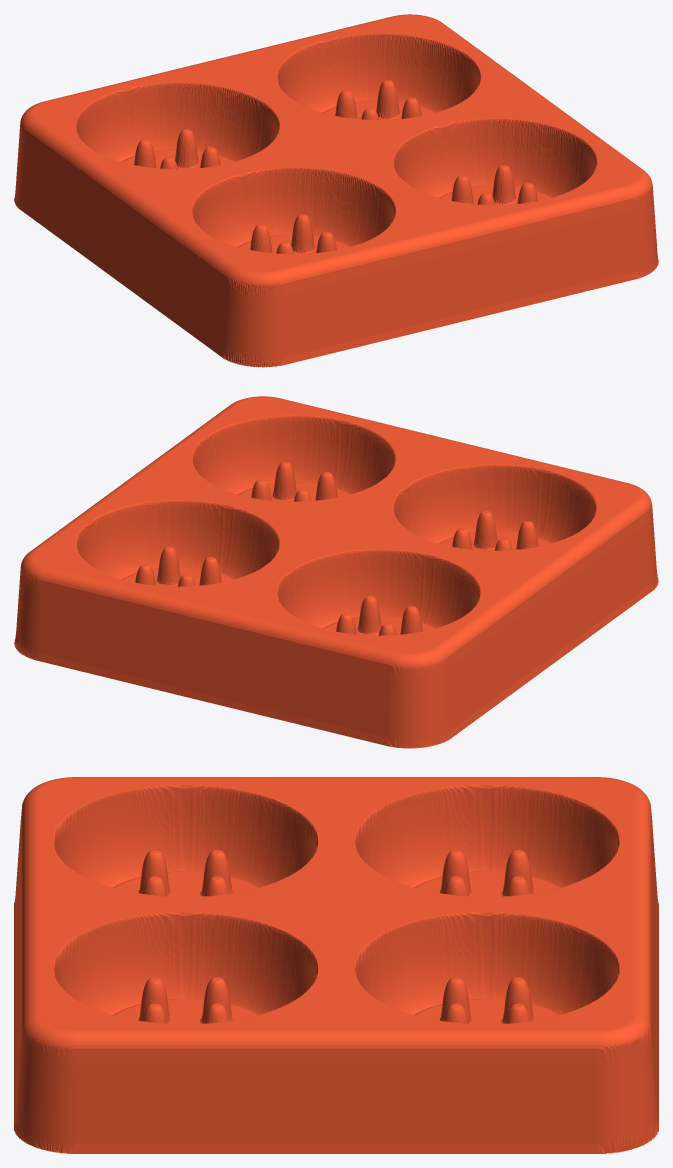
Rendered from mold.glb.
3 views of the same model, one above another, from view 1: azimuth 30°, elevation 25°; view 2: azimuth 150°, elevation 25°; view 3: azimuth 270°, elevation 25° (orthographic). The views are drawn at different scales.
Visible parts, largest first — view 1: geometry_0; view 2: geometry_0; view 3: geometry_0.
Part boxes in pixels (box(x1,y1,x2,y2)): geometry_0: box(14, 14, 658, 367); geometry_0: box(14, 396, 658, 748); geometry_0: box(14, 777, 658, 1153).
Bounding box in the file's own units: 0.0942 × 0.0182 × 0.0942.
